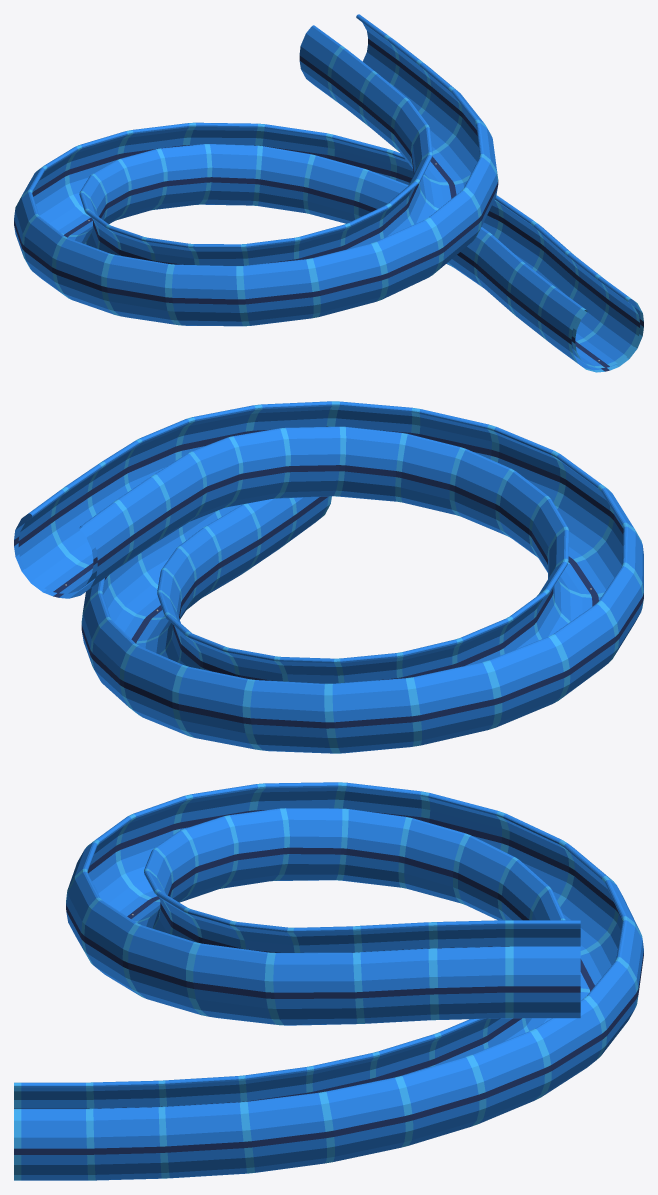
File: tunnel_180_S_R.fbx
The picture shows the model from 3 angles, top to bottom: view 1: azimuth 30°, elevation 25°; view 2: azimuth 150°, elevation 25°; view 3: azimuth 270°, elevation 25°; orthographic projection. The views are drawn at different scales.
Parts seen in each view (by area): view 1: tunnel_180_S_R; view 2: tunnel_180_S_R; view 3: tunnel_180_S_R.
Part boxes in pixels (x1,y1,x2,y2): tunnel_180_S_R: (14, 14, 643, 372); tunnel_180_S_R: (14, 401, 643, 753); tunnel_180_S_R: (14, 782, 643, 1180).
Size of the model in its own units: 11379 by 4444 by 11436.
2 materials, 1 textured.
